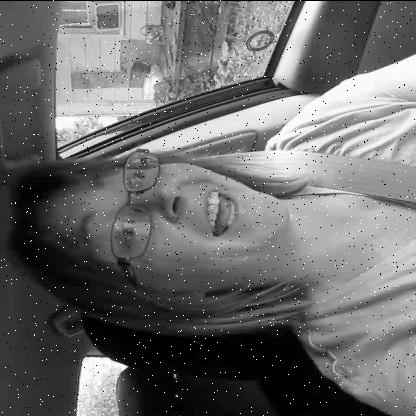seatbelt: (15, 145, 416, 327)
